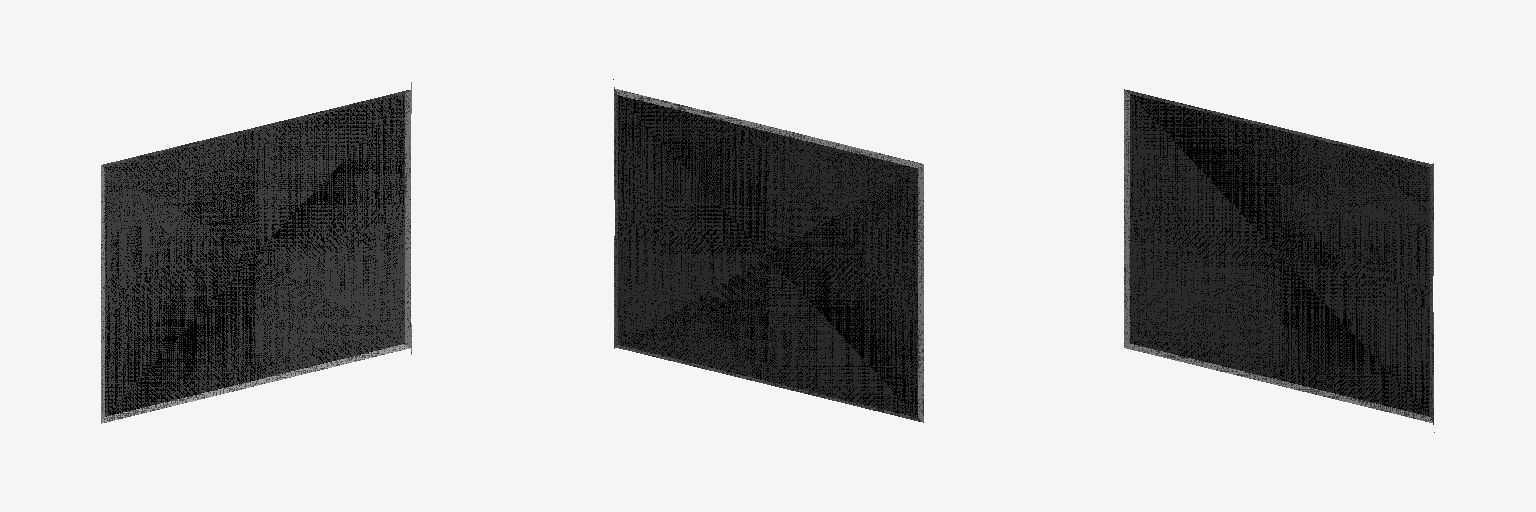
Rendered from computer.obj.
3 views of the same model, side by side, from view 1: azimuth 30°, elevation 25°; view 2: azimuth 150°, elevation 25°; view 3: azimuth 330°, elevation 25° (orthographic).
Size of the model in its own units: 1.44 by 1.23 by 0.0102.